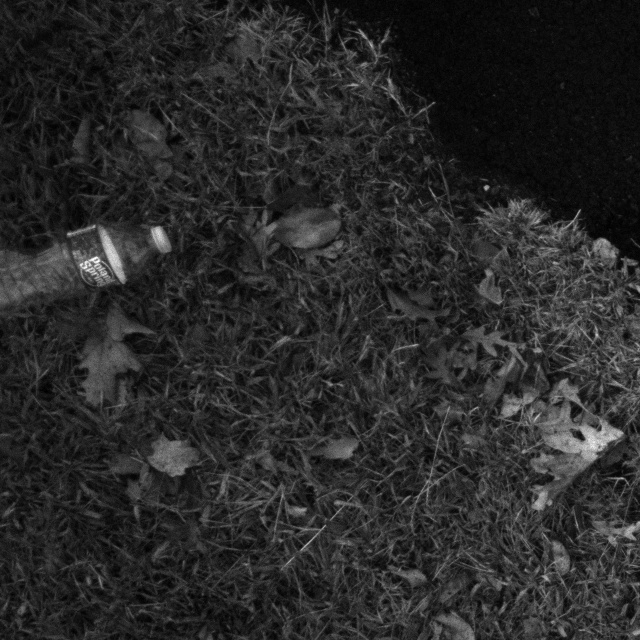bottle: (0, 203, 183, 337)
